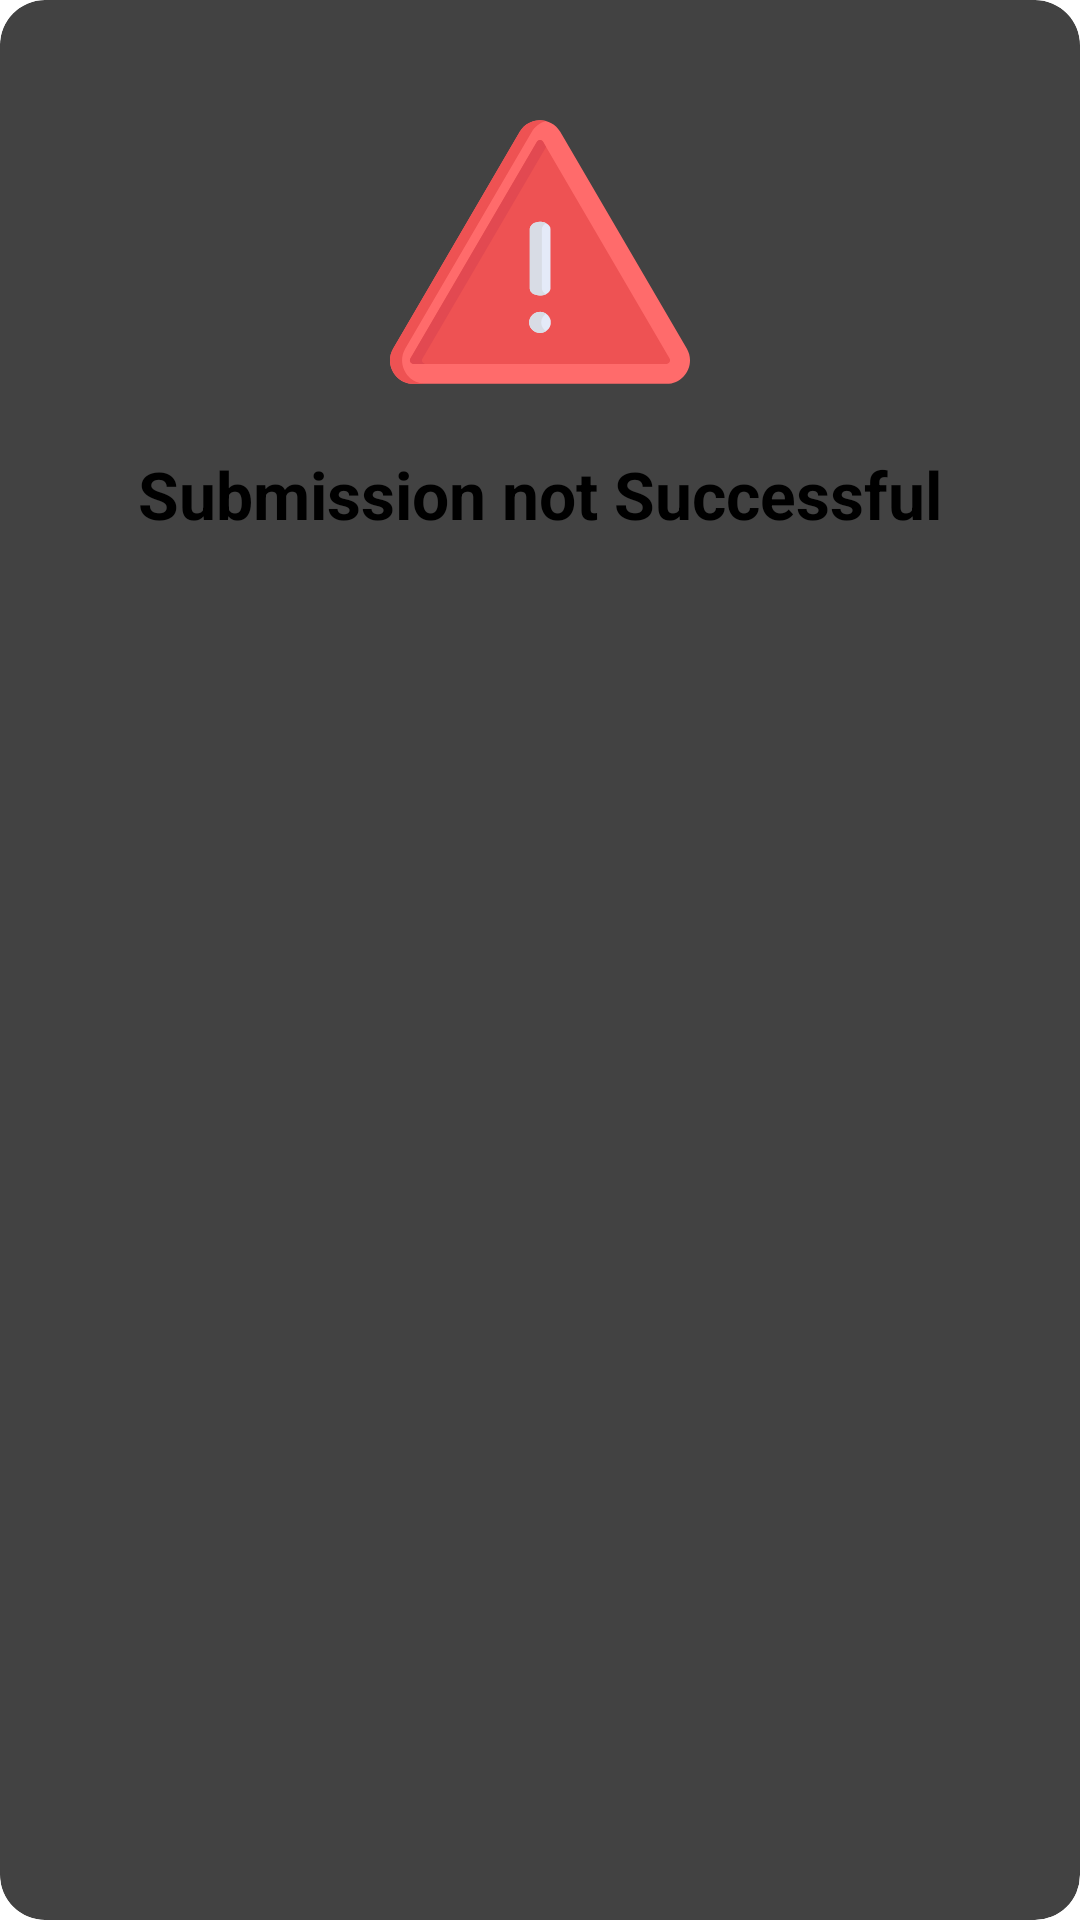

Named icons in this screenshot (1080px x 1920px) and their centers, point (x, y):
warning: point (540, 252)
